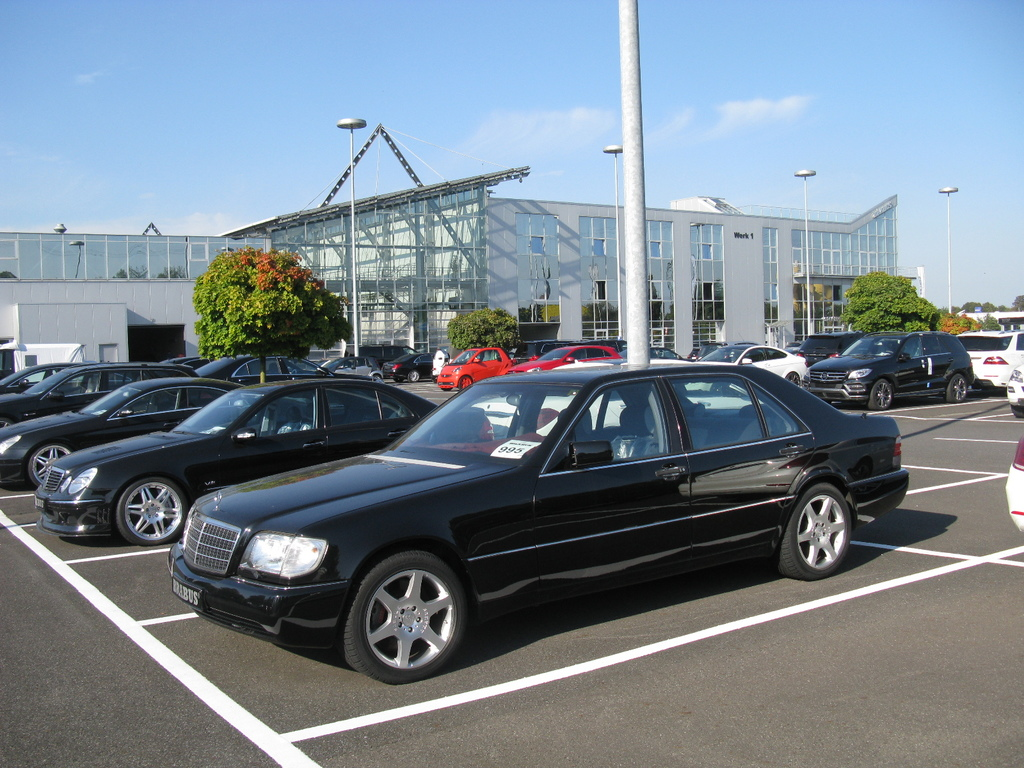Car: (0, 328, 1022, 685)
